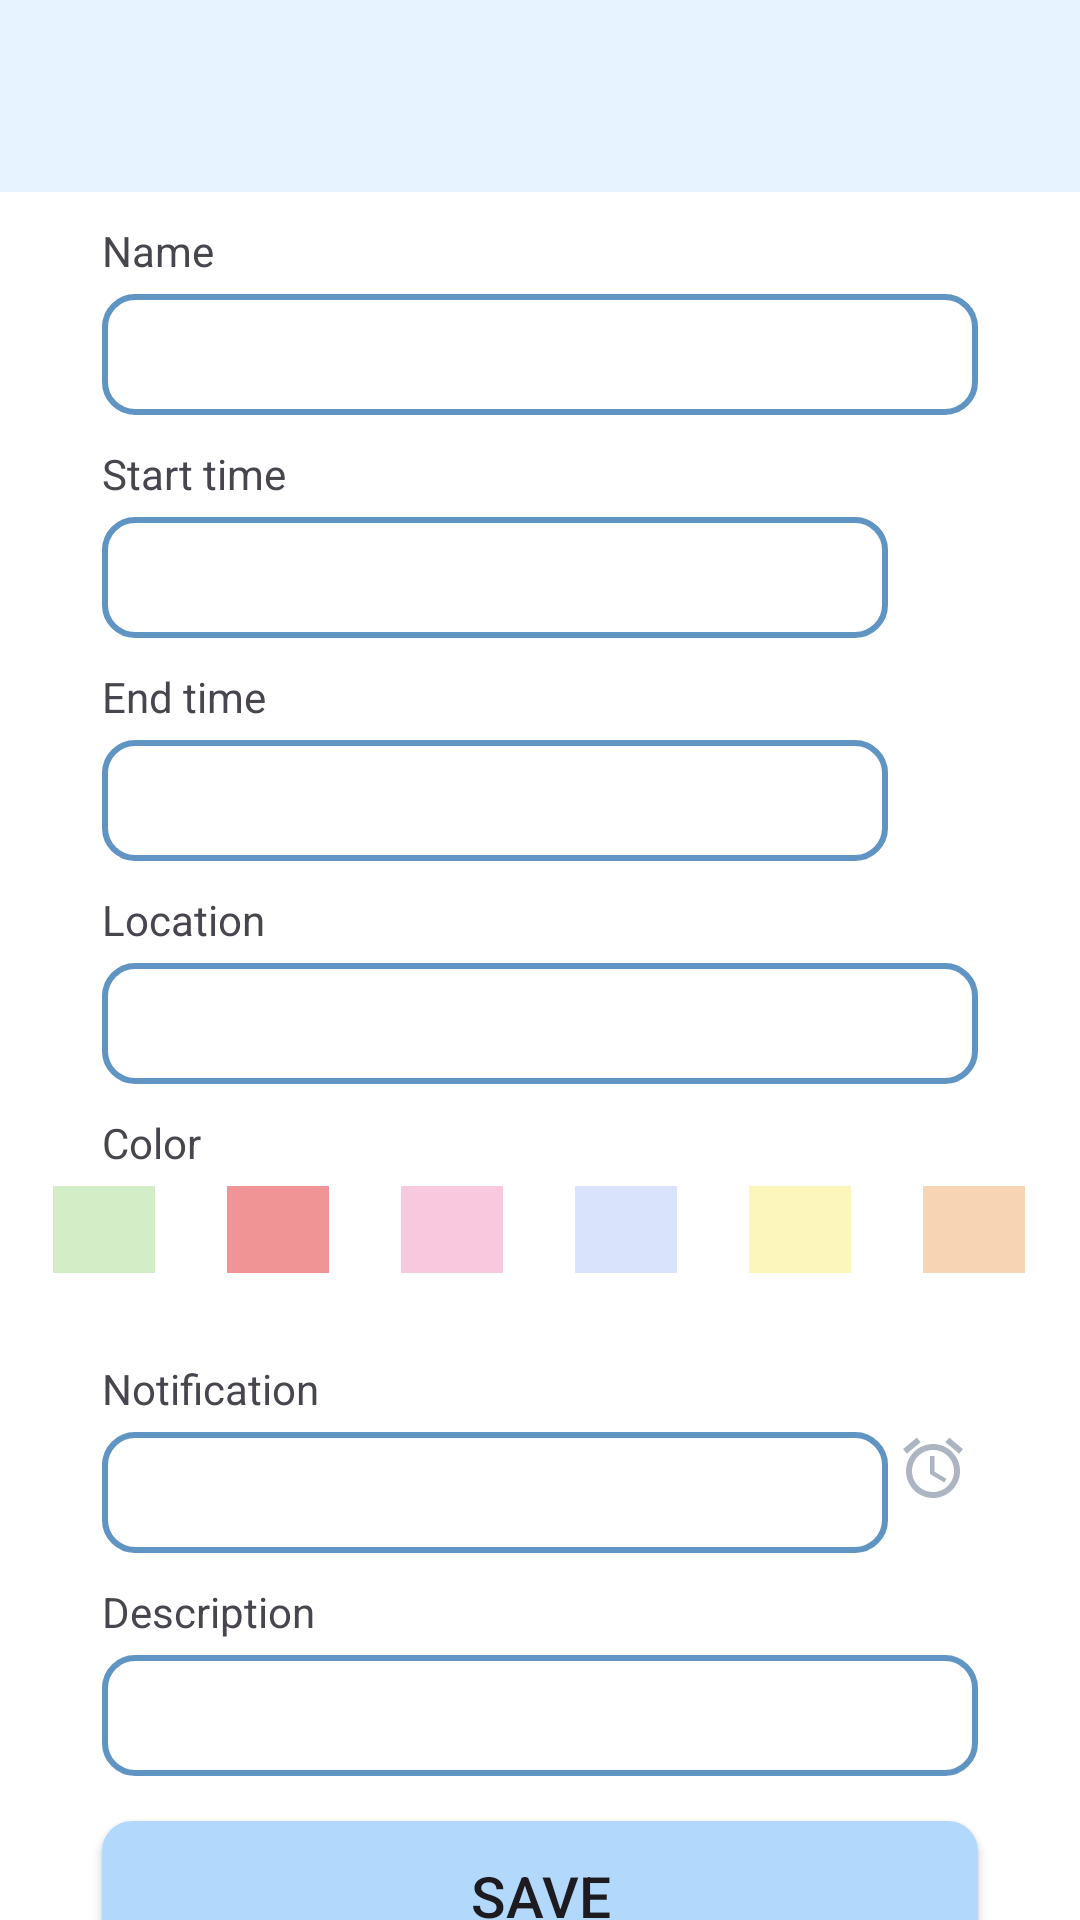

Icons on this 1080w x 1920h Android screen, each with the point to tap as (x=x, y=y):
notification: (x=933, y=1468)
